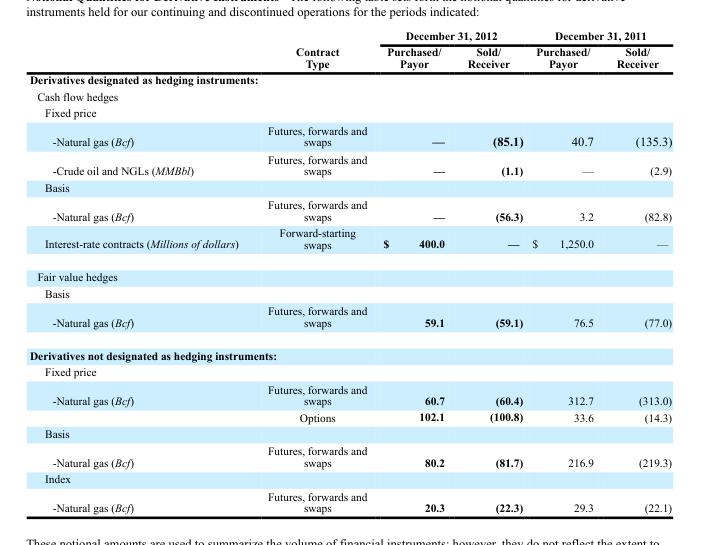table: (28, 28, 671, 513)
table column: (28, 28, 252, 513), (252, 28, 374, 513), (374, 28, 455, 513), (527, 28, 604, 513), (455, 28, 527, 513), (604, 28, 671, 513)
table column header: (28, 28, 671, 71)
table projected row header: (28, 260, 671, 284), (28, 338, 671, 362), (28, 87, 671, 104), (28, 104, 671, 121), (28, 178, 671, 195), (28, 284, 671, 301), (28, 362, 671, 379), (28, 424, 671, 441), (28, 470, 671, 487), (28, 71, 671, 87)
table row: (28, 301, 671, 338), (28, 224, 671, 260), (28, 121, 671, 150), (28, 195, 671, 224), (28, 379, 671, 408), (28, 441, 671, 470), (28, 43, 671, 71), (28, 150, 671, 178), (28, 487, 671, 513), (28, 260, 671, 284), (28, 338, 671, 362), (28, 87, 671, 104), (28, 104, 671, 121), (28, 178, 671, 195), (28, 284, 671, 301), (28, 362, 671, 379), (28, 424, 671, 441), (28, 470, 671, 487), (28, 71, 671, 87), (28, 408, 671, 424), (28, 28, 671, 43)
table spanning cell: (28, 379, 252, 424), (252, 28, 374, 71), (374, 28, 527, 43), (527, 28, 671, 43)
